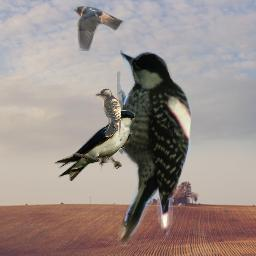Swallow: (53, 110, 135, 181), (74, 4, 124, 51)
Woodpecker: (117, 50, 192, 242), (95, 88, 121, 137)
